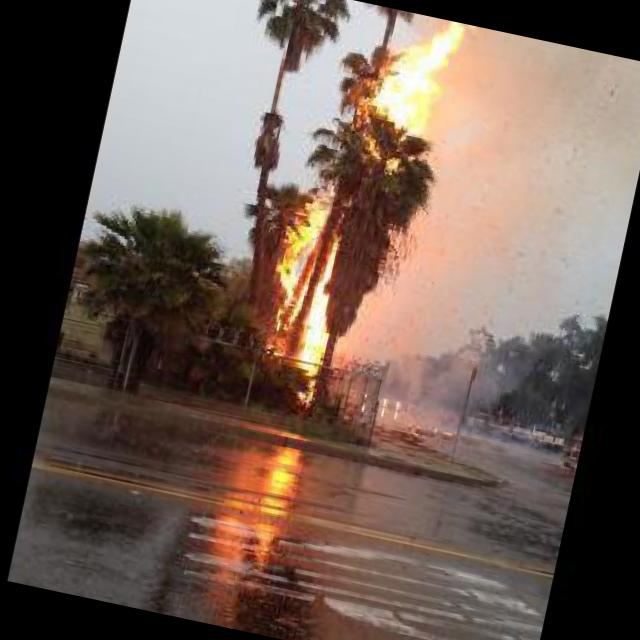fire: (251, 0, 470, 419)
